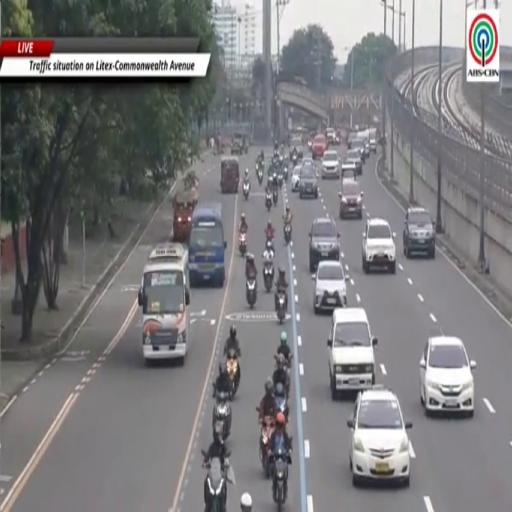bus: (138, 244, 190, 363), (189, 203, 226, 287)
car: (348, 386, 412, 487), (420, 335, 476, 417), (328, 308, 377, 399), (362, 218, 396, 274), (312, 261, 347, 313), (309, 217, 340, 273), (403, 207, 435, 259), (339, 179, 363, 219), (299, 166, 318, 198), (321, 151, 340, 179), (345, 150, 363, 174), (351, 137, 366, 163), (312, 135, 327, 158), (290, 137, 303, 159), (342, 163, 358, 179), (291, 166, 301, 191), (369, 128, 377, 153), (348, 132, 357, 149), (326, 128, 335, 145), (301, 157, 315, 167), (364, 140, 370, 157)
jeepney: (173, 187, 198, 243), (221, 156, 239, 193)
motorcycle: (204, 453, 234, 511), (270, 450, 290, 511), (259, 416, 275, 478), (213, 392, 232, 440), (227, 348, 239, 396), (274, 382, 288, 422), (246, 279, 257, 309), (263, 262, 274, 292), (285, 354, 293, 395), (276, 293, 285, 324), (239, 233, 247, 257), (284, 223, 291, 244), (265, 192, 272, 211), (243, 182, 250, 200), (257, 168, 263, 185), (273, 188, 278, 206), (283, 166, 288, 181), (278, 173, 283, 188), (292, 154, 297, 166)
